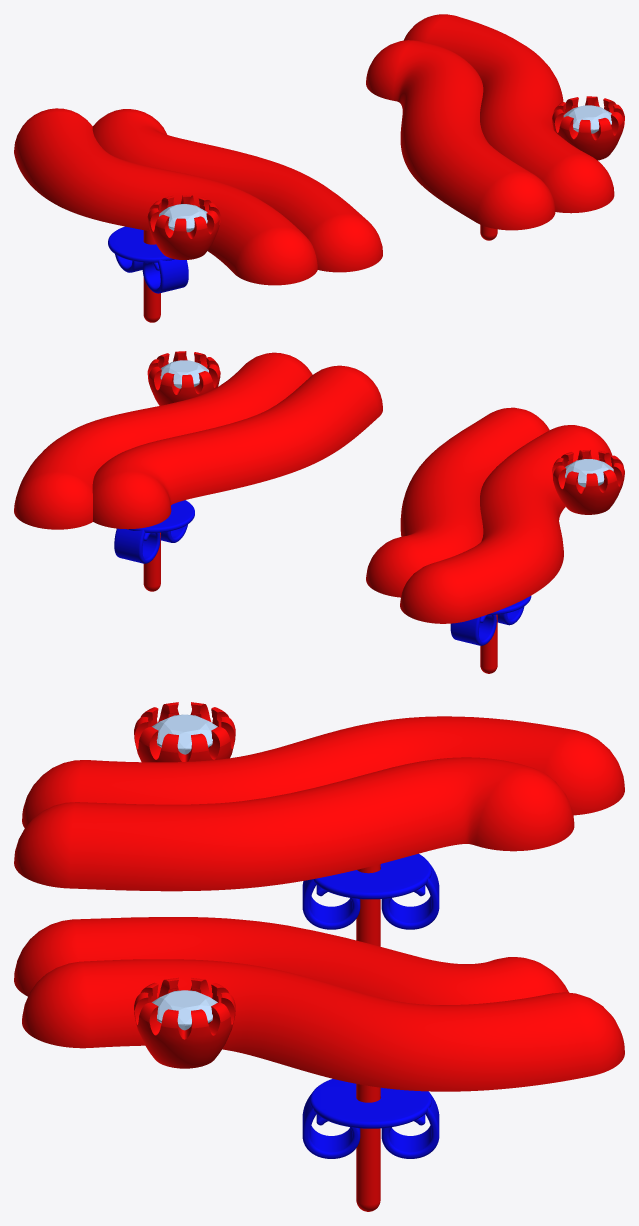
The picture shows the model from 3 angles, top to bottom: view 1: azimuth 30°, elevation 25°; view 2: azimuth 150°, elevation 25°; view 3: azimuth 270°, elevation 25°; orthographic projection. The views are drawn at different scales.
Parts seen in each view (by area): view 1: Earrings Debora.3dm; view 2: Earrings Debora.3dm; view 3: Earrings Debora.3dm.
Part boxes in pixels (x1,y1,x2,y2): Earrings Debora.3dm: (14, 14, 624, 322); Earrings Debora.3dm: (14, 351, 624, 673); Earrings Debora.3dm: (14, 702, 624, 1211).
Size of the model in its own units: 3.08 by 1.01 by 2.34.
